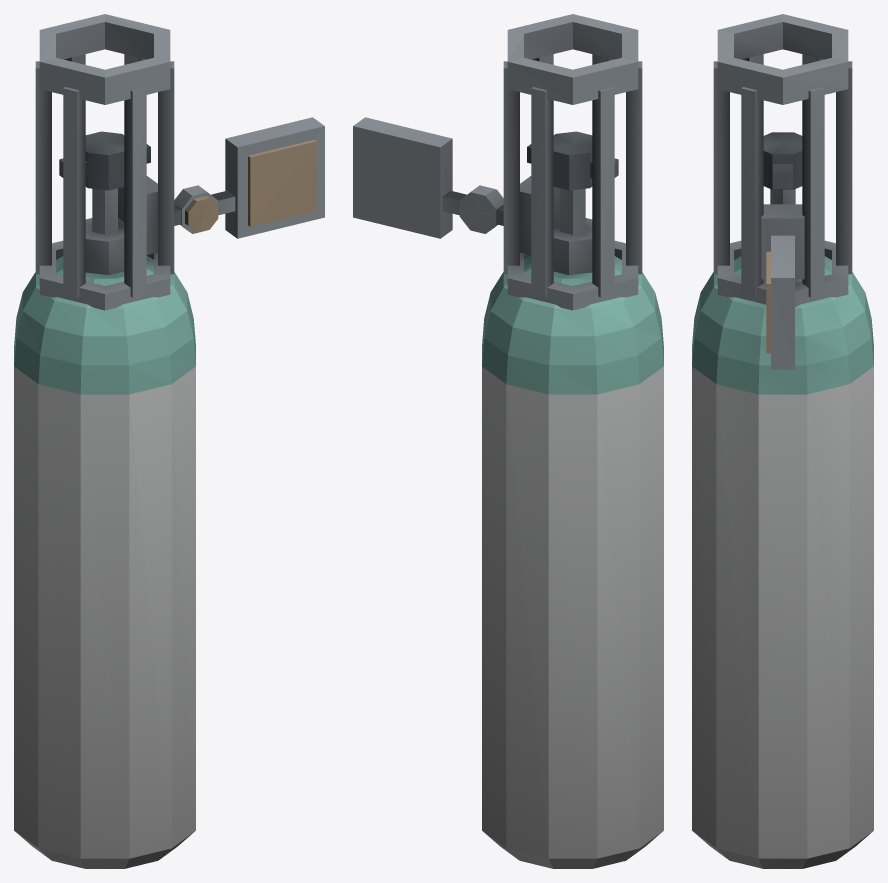
3 views of the same model, side by side, from view 1: azimuth 30°, elevation 25°; view 2: azimuth 150°, elevation 25°; view 3: azimuth 270°, elevation 25° (orthographic).
Parts seen in each view (by area): view 1: cylinder; view 2: cylinder; view 3: cylinder.
Part boxes in pixels (x1=…): cylinder: x1=14, y1=14, x2=324, y2=868; cylinder: x1=353, y1=14, x2=663, y2=868; cylinder: x1=692, y1=14, x2=873, y2=868.
Bounding box in the file's own units: 0.5022 × 1.3 × 0.2705.
